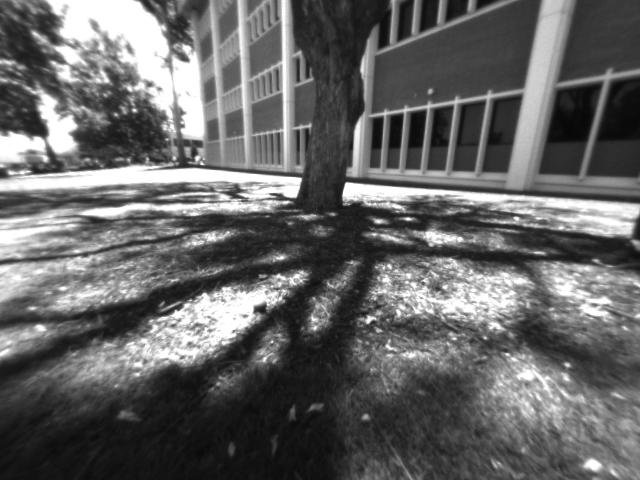dogtoy: (248, 294, 273, 317)
